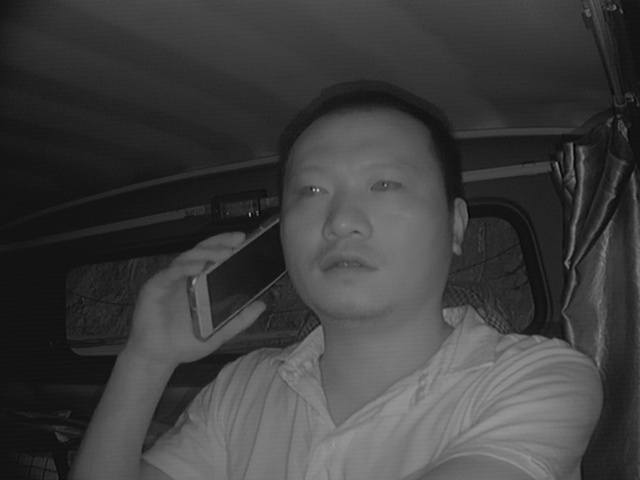hand: (139, 229, 263, 356)
